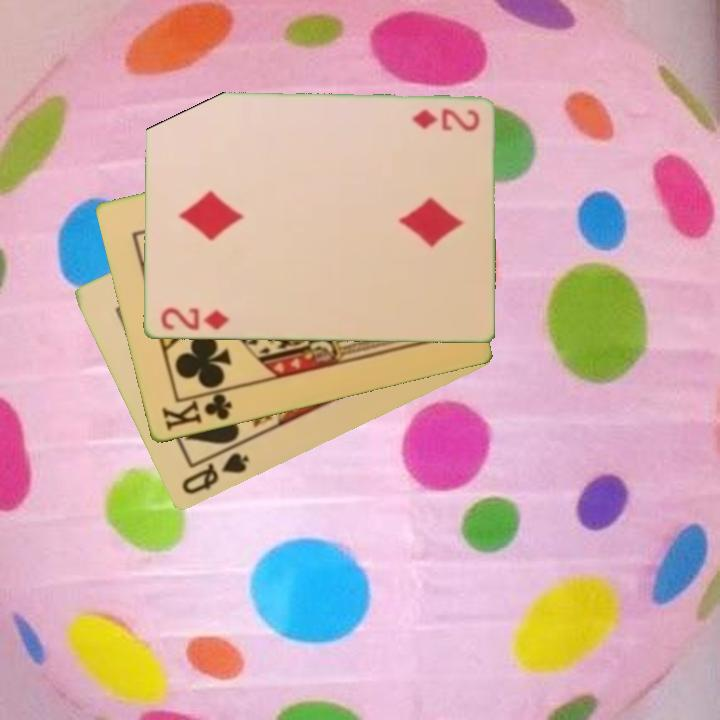2d: (157, 304, 232, 333), (408, 105, 482, 134)
Kc: (158, 386, 236, 435)
Qs: (178, 450, 253, 498)
